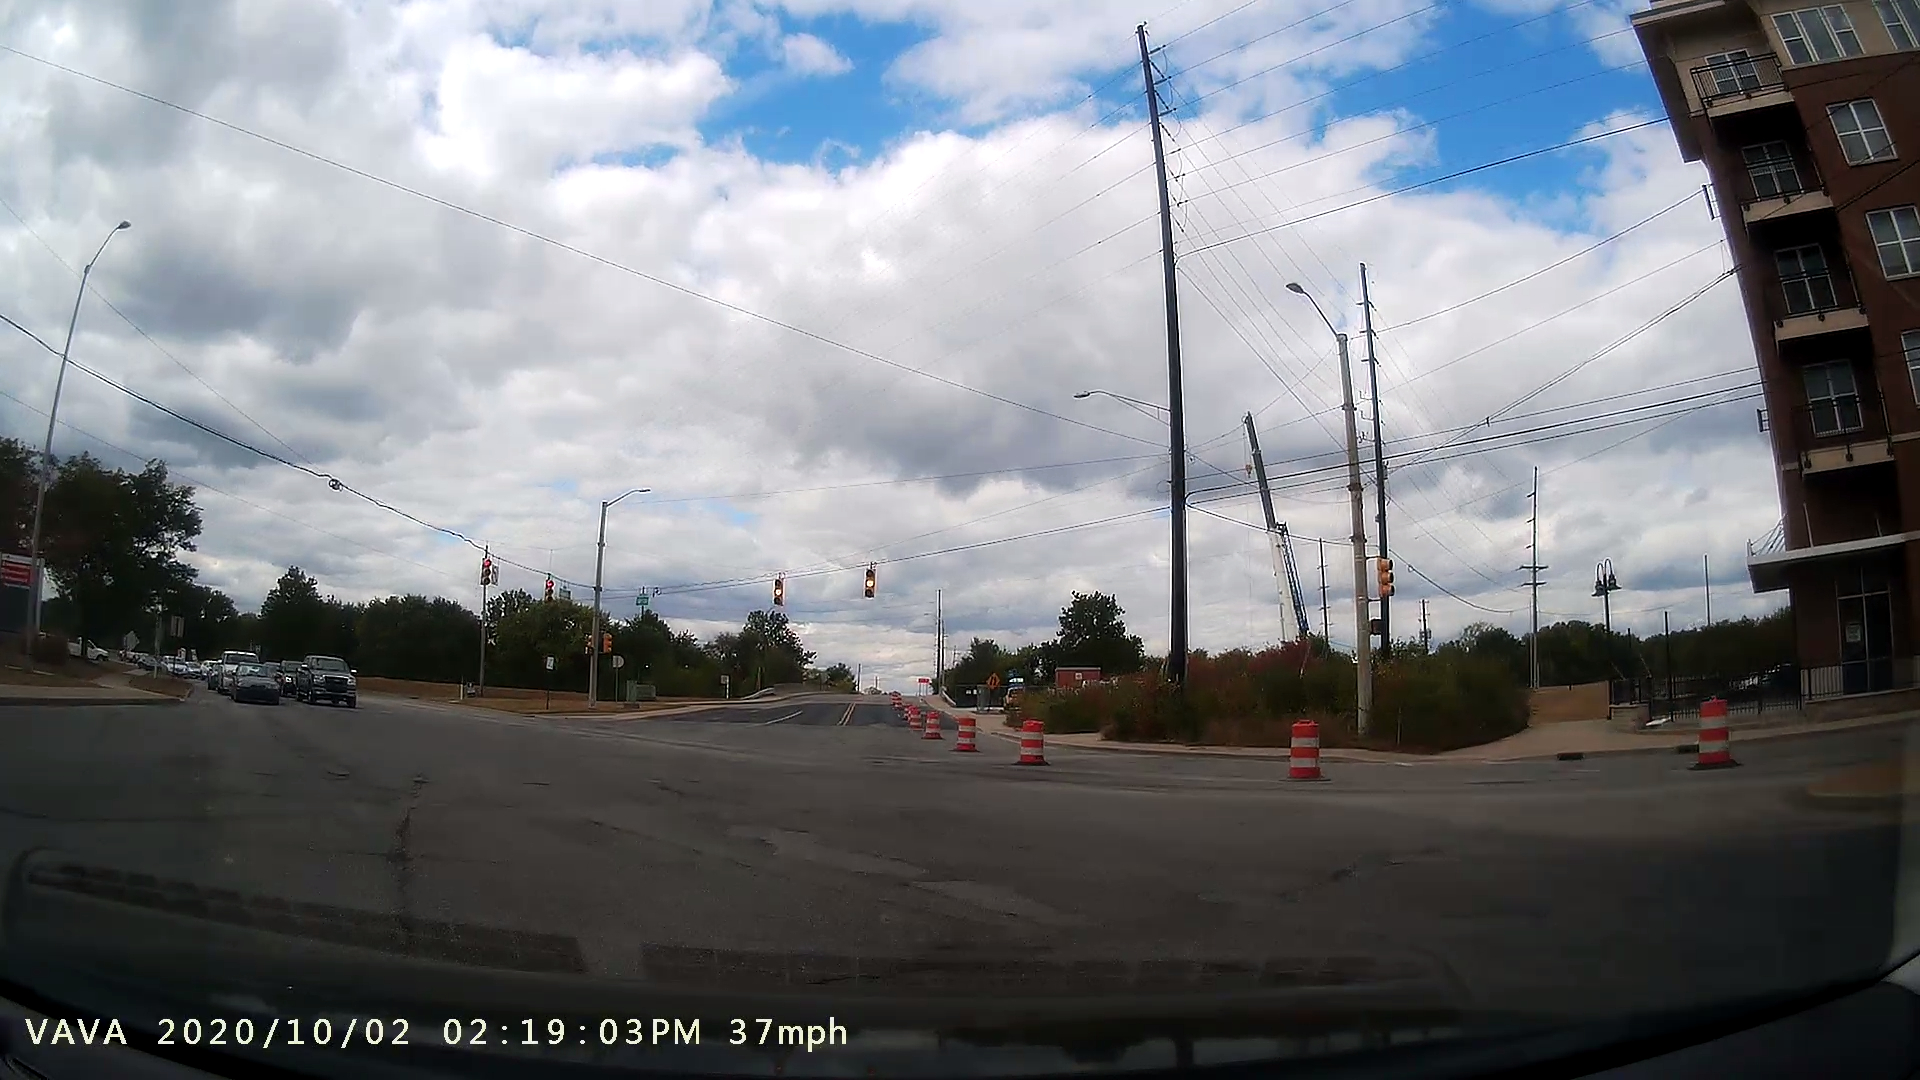const_barrel: (1676, 687, 1749, 778), (1279, 708, 1333, 796), (1007, 705, 1055, 774), (949, 698, 985, 760)
